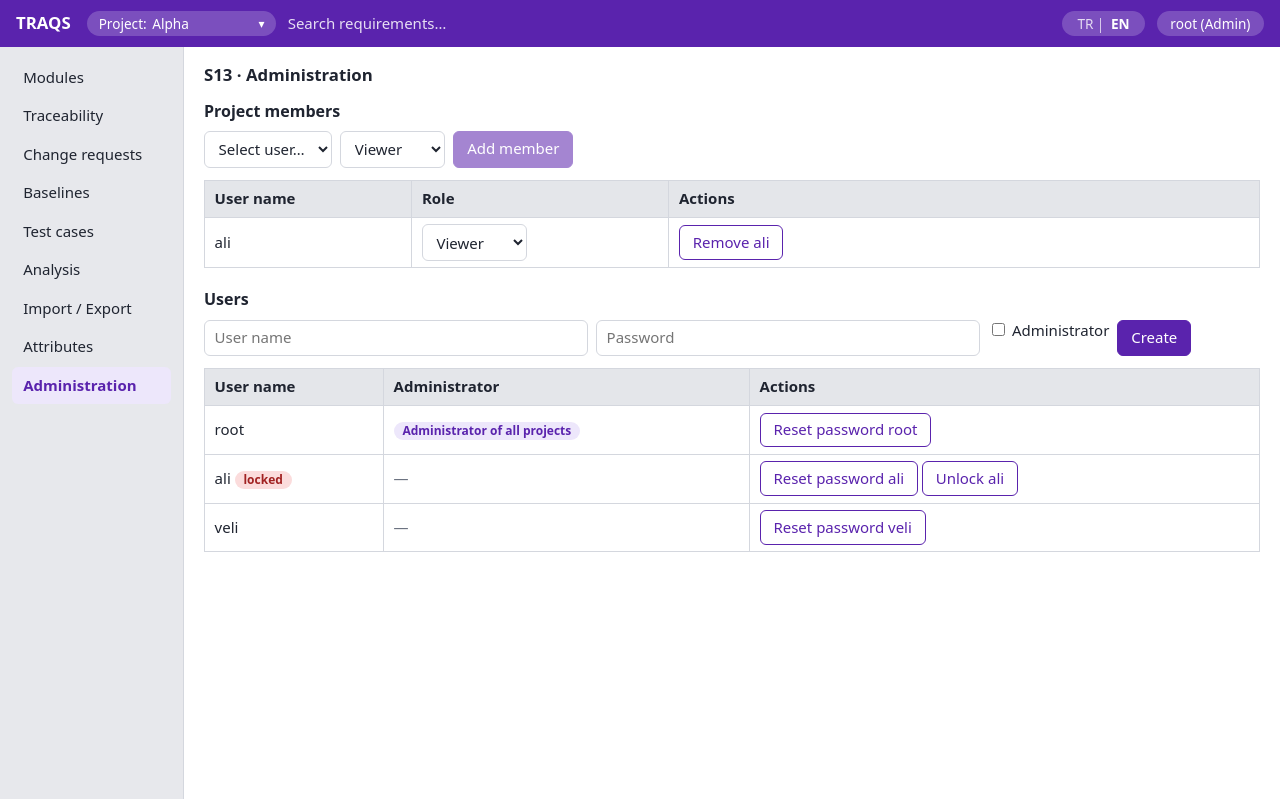
Test case: Administration (S13) › creates an account and explains a too short password / duplicate user
This screenshot has width=1280, height=800.
Expected: the cell "veli" is shown, 204,503 -> 384,552
Step 1. Type "newbie" into the field labelled "User name" → (396,338), box 204,320 -> 588,356
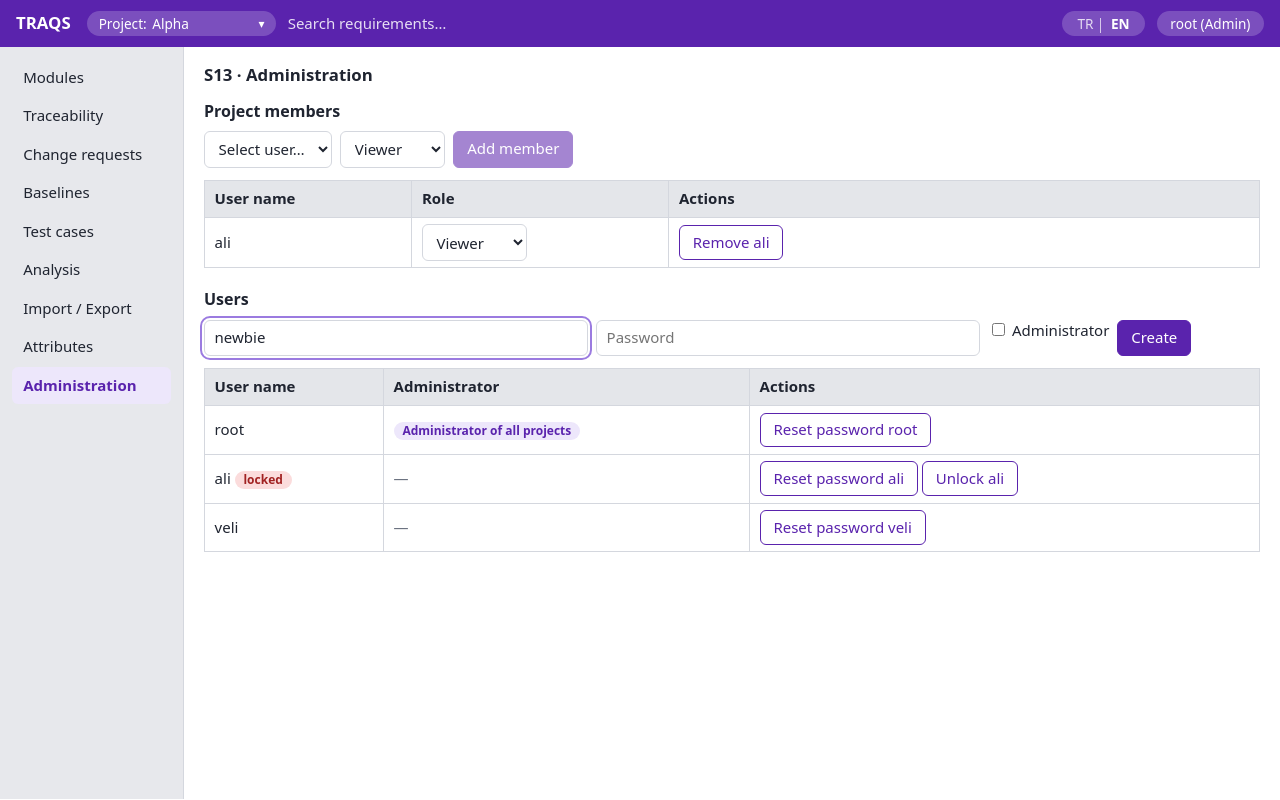
Step 2. Type "abc" into the password field labelled "Password" → (788,338), box 596,320 -> 980,356
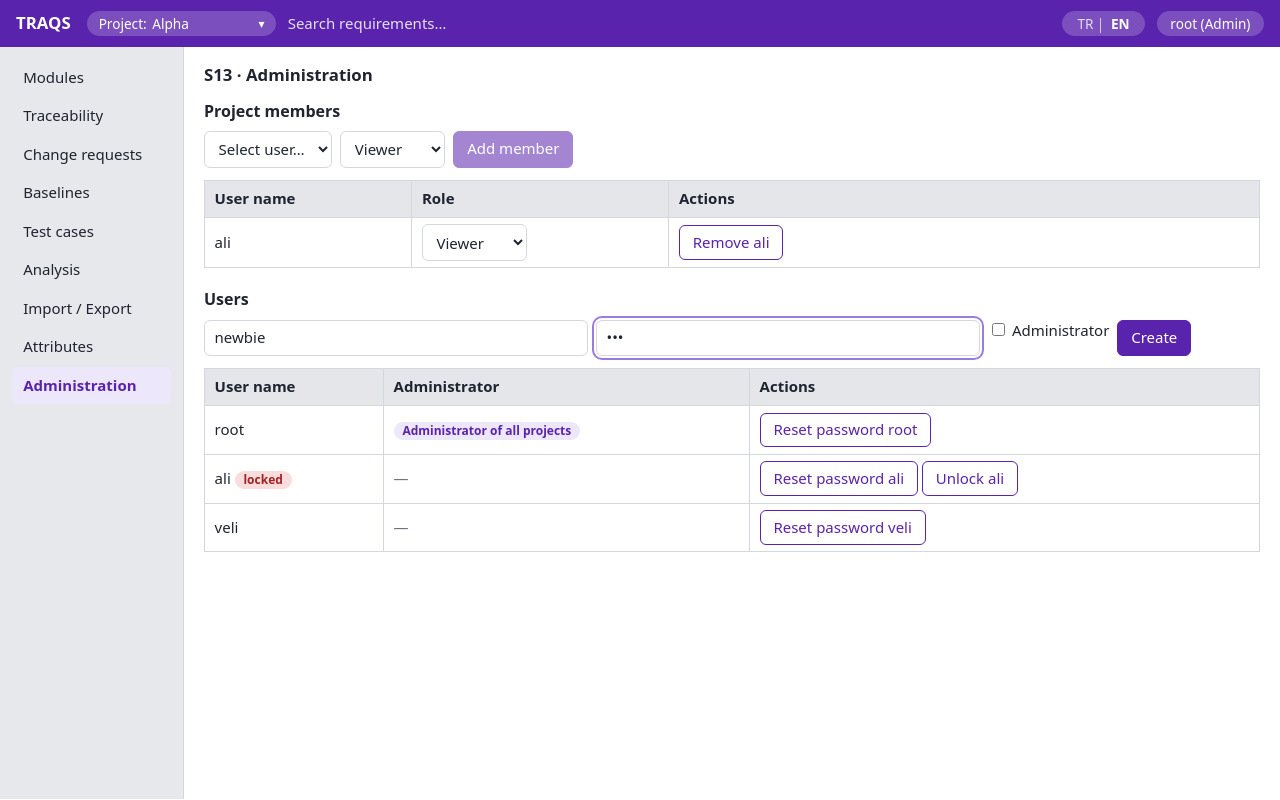
Step 3. Click the button "Create" → (1154,338), box 1117,320 -> 1191,356
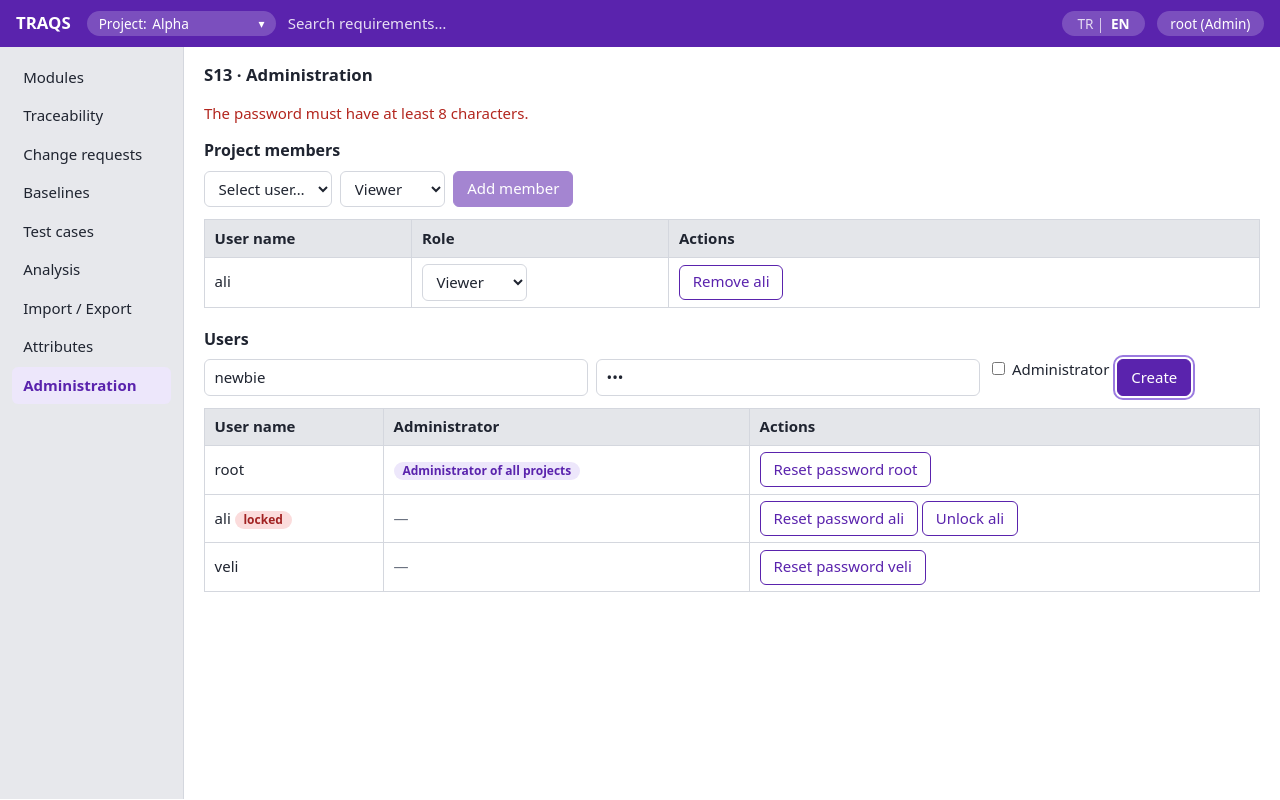
Expected: the message shows "at least 8 characters", 204,103 -> 528,123
